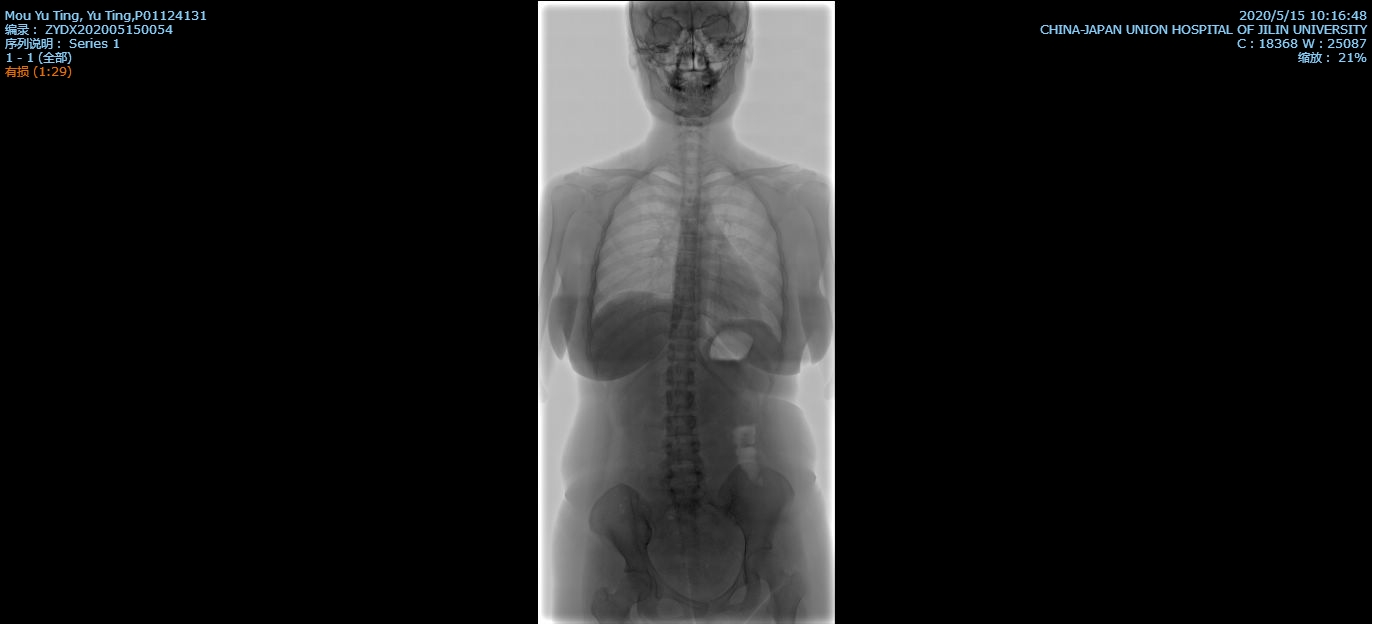Bone: (662, 442, 701, 461), (664, 390, 695, 411), (668, 470, 703, 488), (667, 365, 694, 384), (666, 417, 696, 434), (667, 341, 694, 359), (669, 322, 694, 338), (675, 286, 695, 301), (673, 304, 694, 318), (673, 269, 695, 282), (677, 253, 696, 267), (678, 235, 697, 249)
